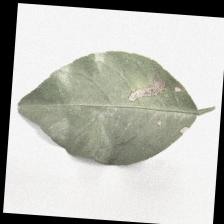canker: (115, 66, 195, 134)
